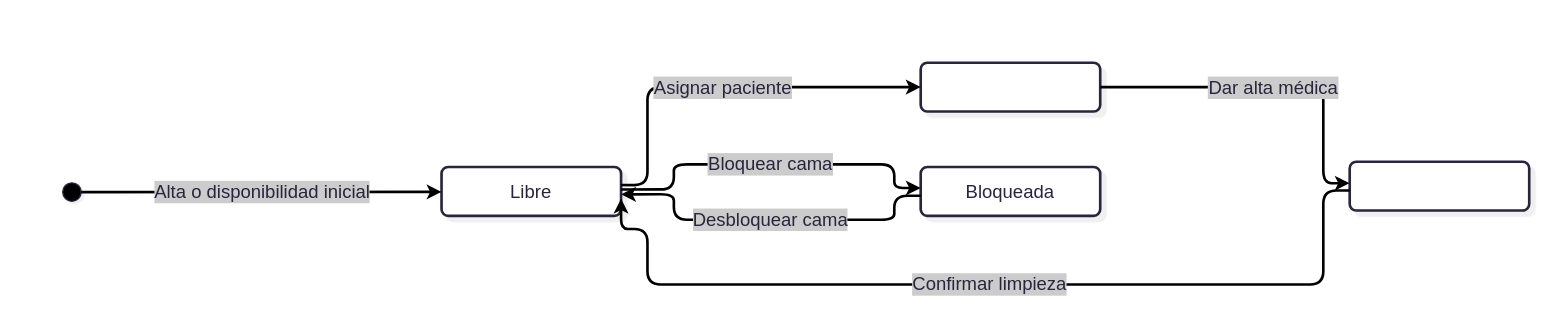
Image size: 1558x318. Some labels were removed from this diagram. Each missing label, with the centre of its shape:
En limpieza: the point at 1441,188
Ocupada: the point at 1012,89
